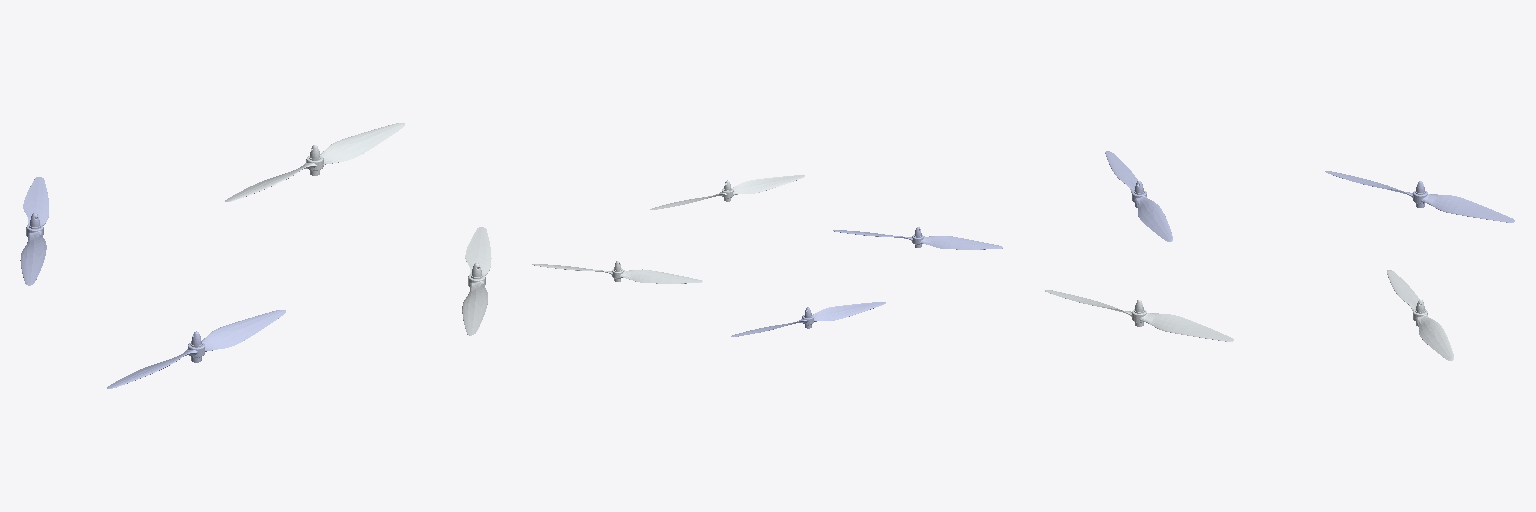
robot.urdf — drone-model:
<?xml version="1.0" encoding="utf-8"?>
<!-- This URDF was automatically created by SolidWorks to URDF Exporter! Originally created by Stephen Brawner ([email redacted]) 
     Commit Version: 1.6.0-4-g7f85cfe  Build Version: 1.6.7995.38578
     For more information, please see http://wiki.ros.org/sw_urdf_exporter -->
<robot
  name="drone-model">
  <link
    name="base_link">
    <inertial>
      <origin
        xyz="-0.0140657758513601 0.00527611174374507 0.375008844411273"
        rpy="0 0 0" />
      <mass
        value="0.564850476674269" />
      <inertia
        ixx="0.000698879569637969"
        ixy="-1.23123284540812E-07"
        ixz="-6.65021323378972E-08"
        iyy="0.00161063553511403"
        iyz="-1.18577675792886E-07"
        izz="0.000968681201707845" />
    </inertial>
    <visual>
      <origin
        xyz="0 0 0"
        rpy="0 0 0" />
      <geometry>
        <mesh
          filename="package://drone-model/meshes/base_link.STL" />
      </geometry>
      <material
        name="">
        <color
          rgba="0.752941176470588 0 0 1" />
      </material>
    </visual>
    <collision>
      <origin
        xyz="0 0 0"
        rpy="0 0 0" />
      <geometry>
        <mesh
          filename="package://drone-model/meshes/base_link.STL" />
      </geometry>
    </collision>
  </link>
  <link
    name="prop1 ">
    <inertial>
      <origin
        xyz="2.08721058603256E-07 0.000919099852639438 -9.96103941314219E-06"
        rpy="0 0 0" />
      <mass
        value="0.0139131122891217" />
      <inertia
        ixx="3.38203114107491E-05"
        ixy="-9.19080146603625E-12"
        ixz="-4.32453209489338E-07"
        iyy="3.39693732732608E-05"
        iyz="-1.12220523538876E-10"
        izz="3.81818798239142E-07" />
    </inertial>
    <visual>
      <origin
        xyz="0 0 0"
        rpy="0 0 0" />
      <geometry>
        <mesh
          filename="package://drone-model/meshes/prop1 .STL" />
      </geometry>
      <material
        name="">
        <color
          rgba="0.792156862745098 0.819607843137255 0.933333333333333 1" />
      </material>
    </visual>
    <collision>
      <origin
        xyz="0 0 0"
        rpy="0 0 0" />
      <geometry>
        <mesh
          filename="package://drone-model/meshes/prop1 .STL" />
      </geometry>
    </collision>
  </link>
  <joint
    name="prop1_joint"
    type="fixed">
    <origin
      xyz="-0.17274 -0.53438 0.065147"
      rpy="1.5708 0 -1.2852" />
    <parent
      link="base_link" />
    <child
      link="prop1 " />
    <axis
      xyz="0 0 0" />
    <limit
      effort="100"
      velocity="100" />
  </joint>
  <link
    name="prop2">
    <inertial>
      <origin
        xyz="1.32533671162727E-07 -0.000142709615910383 -9.4455130754123E-06"
        rpy="0 0 0" />
      <mass
        value="0.0139130415745406" />
      <inertia
        ixx="3.38206740379844E-05"
        ixy="1.71735381628985E-11"
        ixz="-4.32268971785081E-07"
        iyy="3.39697555050111E-05"
        iyz="-1.19600289354538E-10"
        izz="3.81840950862612E-07" />
    </inertial>
    <visual>
      <origin
        xyz="0 0 0"
        rpy="0 0 0" />
      <geometry>
        <mesh
          filename="package://drone-model/meshes/prop2.STL" />
      </geometry>
      <material
        name="">
        <color
          rgba="0.792156862745098 0.819607843137255 0.933333333333333 1" />
      </material>
    </visual>
    <collision>
      <origin
        xyz="0 0 0"
        rpy="0 0 0" />
      <geometry>
        <mesh
          filename="package://drone-model/meshes/prop2.STL" />
      </geometry>
    </collision>
  </link>
  <joint
    name="prop2_joint"
    type="fixed">
    <origin
      xyz="-0.17255 -0.21656 0.065147"
      rpy="-1.5708 0 2.578" />
    <parent
      link="base_link" />
    <child
      link="prop2" />
    <axis
      xyz="0 0 0" />
    <limit
      effort="100"
      velocity="100" />
  </joint>
  <link
    name="prop3">
    <inertial>
      <origin
        xyz="9.02194842405946E-06 -0.00408090014948388 -4.22760387003285E-06"
        rpy="0 0 0" />
      <mass
        value="0.0139131122835912" />
      <inertia
        ixx="7.29329542592946E-06"
        ixy="9.8105634506034E-11"
        ixz="1.35472538331189E-05"
        iyy="3.39694135121054E-05"
        iyz="-5.92108103753147E-11"
        izz="2.6908875213484E-05" />
    </inertial>
    <visual>
      <origin
        xyz="0 0 0"
        rpy="0 0 0" />
      <geometry>
        <mesh
          filename="package://drone-model/meshes/prop3.STL" />
      </geometry>
      <material
        name="">
        <color
          rgba="0.898039215686275 0.917647058823529 0.929411764705882 1" />
      </material>
    </visual>
    <collision>
      <origin
        xyz="0 0 0"
        rpy="0 0 0" />
      <geometry>
        <mesh
          filename="package://drone-model/meshes/prop3.STL" />
      </geometry>
    </collision>
  </link>
  <joint
    name="prop3_joint"
    type="fixed">
    <origin
      xyz="0.14531 -0.21648 0.070147"
      rpy="1.5708 0 -0.175" />
    <parent
      link="base_link" />
    <child
      link="prop3" />
    <axis
      xyz="0 0 0" />
    <limit
      effort="100"
      velocity="100" />
  </joint>
  <link
    name="prop4">
    <inertial>
      <origin
        xyz="-8.79272399290087E-06 -0.00485729038757171 -3.45221945691199E-06"
        rpy="0 0 0" />
      <mass
        value="0.0139130415780447" />
      <inertia
        ixx="5.47519633980343E-06"
        ixy="1.17204680334852E-10"
        ixz="-1.20233293186157E-05"
        iyy="3.39697554824926E-05"
        iyz="2.93748880354678E-11"
        izz="2.87273186265083E-05" />
    </inertial>
    <visual>
      <origin
        xyz="0 0 0"
        rpy="0 0 0" />
      <geometry>
        <mesh
          filename="package://drone-model/meshes/prop4.STL" />
      </geometry>
      <material
        name="">
        <color
          rgba="0.898039215686275 0.917647058823529 0.929411764705882 1" />
      </material>
    </visual>
    <collision>
      <origin
        xyz="0 0 0"
        rpy="0 0 0" />
      <geometry>
        <mesh
          filename="package://drone-model/meshes/prop4.STL" />
      </geometry>
    </collision>
  </link>
  <joint
    name="prop4_joint"
    type="fixed">
    <origin
      xyz="0.1454 -0.53438 0.070147"
      rpy="1.5708 0 -1.7493" />
    <parent
      link="base_link" />
    <child
      link="prop4" />
    <axis
      xyz="0 0 0" />
    <limit
      effort="100"
      velocity="100" />
  </joint>
</robot>

--- Facts derived from the render (not from the file) ---
Views: 3 orthographic renders of the robot side by side, from view 1: azimuth 30°, elevation 25°; view 2: azimuth 150°, elevation 25°; view 3: azimuth 270°, elevation 25°.
Model drone-model with 5 links and 4 joints (4 fixed), rooted at base_link, posed all joints at 0.
Visible links, largest first — view 1: prop1, prop3, prop2, prop4; view 2: prop3, prop1, prop2, prop4; view 3: prop4, prop2, prop3, prop1.
Boxes of the visible links, x1,y1,x2,y2 form: prop1: (107, 310, 285, 388); prop3: (225, 123, 404, 201); prop2: (20, 177, 48, 285); prop4: (462, 227, 491, 335); prop3: (532, 261, 702, 283); prop1: (833, 227, 1002, 249); prop2: (731, 302, 885, 336); prop4: (650, 175, 804, 209); prop4: (1045, 290, 1233, 341); prop2: (1325, 171, 1514, 222); prop3: (1387, 270, 1453, 360); prop1: (1105, 151, 1172, 241).
Bounding box of the posed robot: 0.5619 × 0.5325 × 0.0315 m (x, y, z).
4 mesh visuals loaded from 5 distinct referenced files (4 binary STL); not drawn: 1 (reference not matched to a file when rendering).
